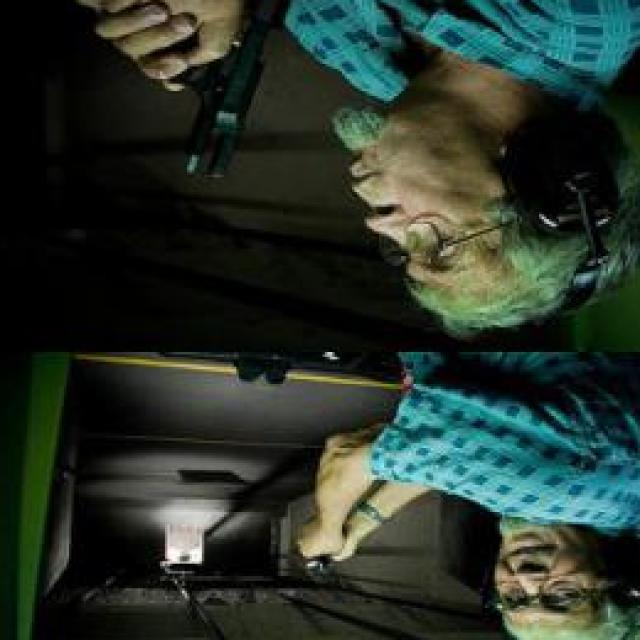pistol: (155, 0, 295, 180), (302, 556, 342, 574)
